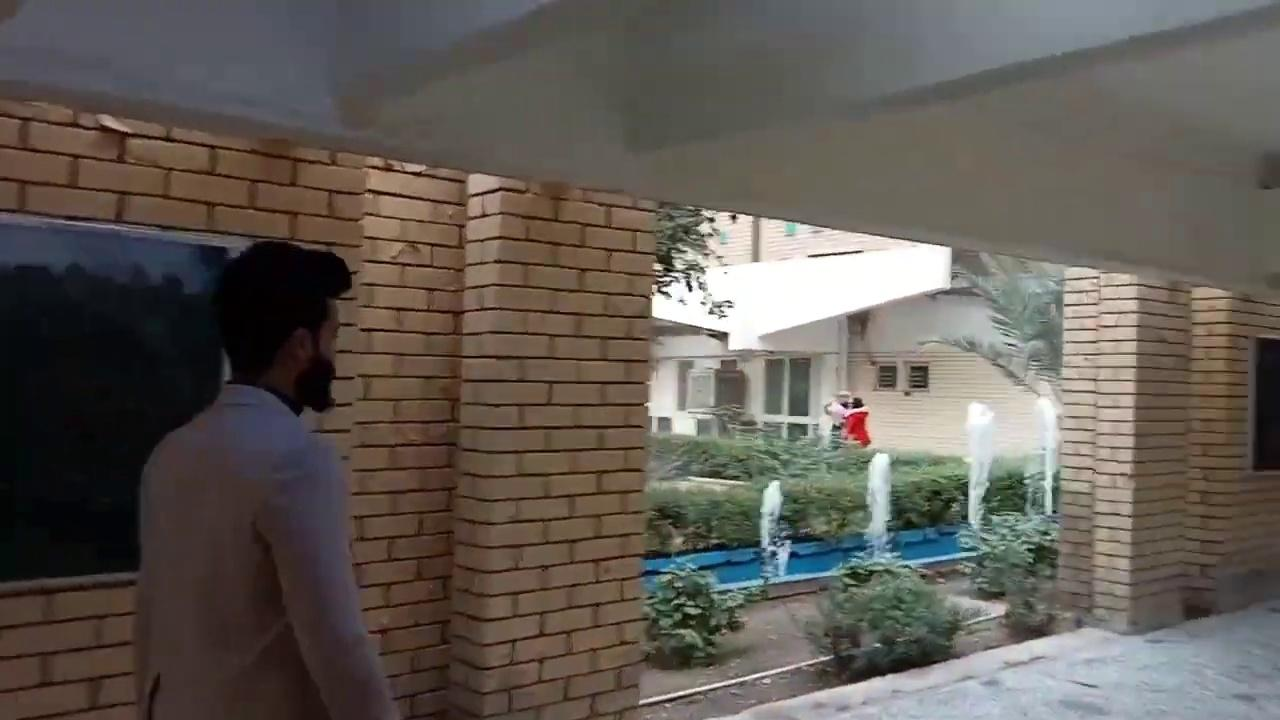fountain: (642, 395, 1060, 596), (850, 450, 903, 565), (961, 400, 996, 528), (756, 478, 792, 578), (1032, 395, 1060, 515), (862, 450, 893, 544)
person: (133, 239, 402, 718), (841, 396, 871, 447), (826, 389, 854, 434)
tree: (806, 547, 965, 682), (917, 247, 1064, 392), (957, 467, 1060, 627), (641, 561, 758, 668), (651, 202, 734, 321), (890, 458, 967, 531)
